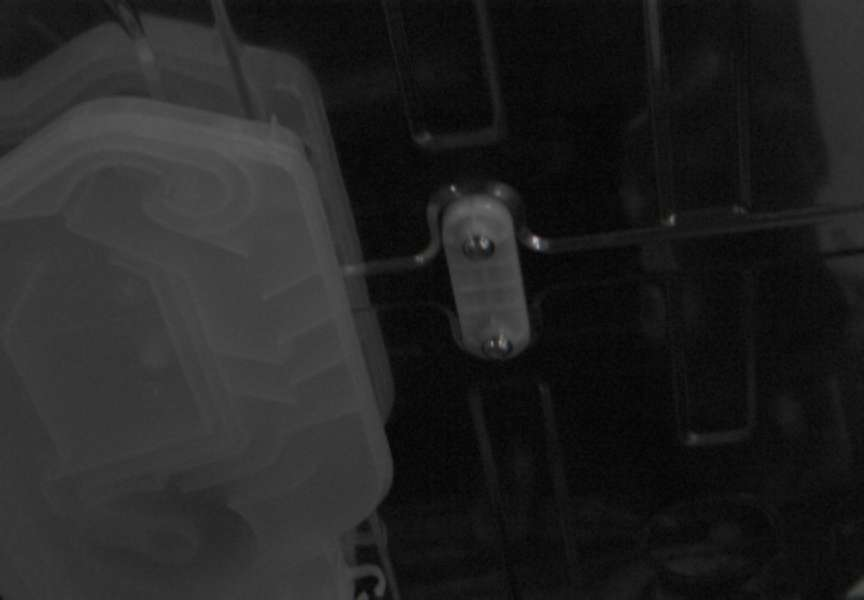screw: (463, 234, 495, 260), (482, 334, 513, 360)
